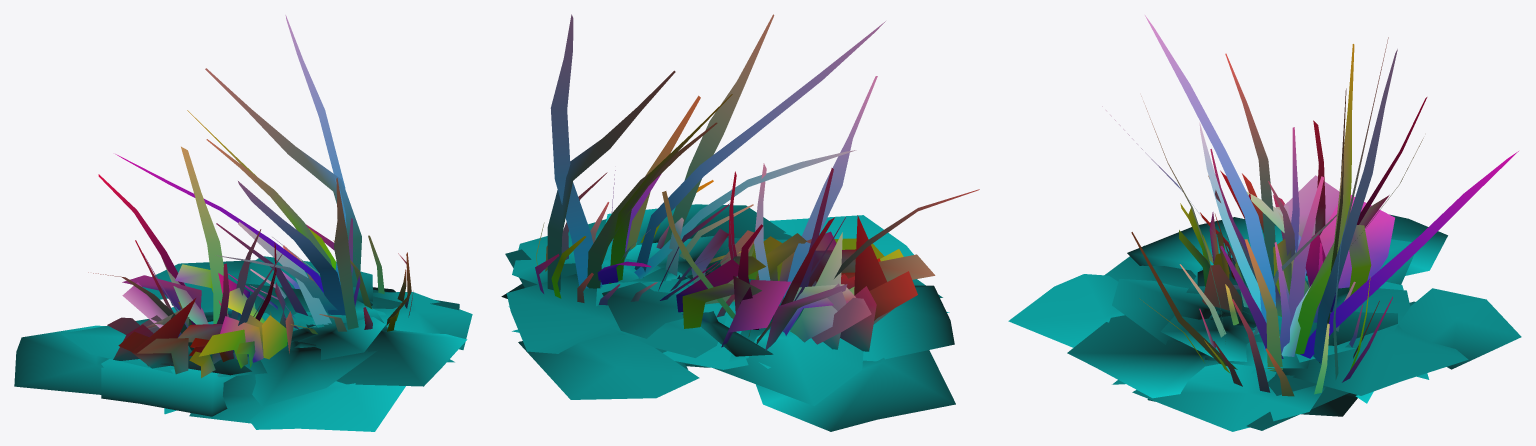
Rendered from Wild_Grass_vczndjqja_Mid_vczndjqja_VarB_LOD1.fbx.
3 views of the same model, side by side, from view 1: azimuth 30°, elevation 25°; view 2: azimuth 150°, elevation 25°; view 3: azimuth 270°, elevation 25° (orthographic). The views are drawn at different scales.
Visible parts, largest first — view 1: _4pch_VarB_LOD2; view 2: _4pch_VarB_LOD2; view 3: _4pch_VarB_LOD2.
Part boxes in pixels (x1,y1,x2,y2): _4pch_VarB_LOD2: [14, 15, 472, 431]; _4pch_VarB_LOD2: [501, 14, 979, 431]; _4pch_VarB_LOD2: [1008, 15, 1521, 431].
Bounding box in the file's own units: 64.43 × 42.19 × 59.87.
